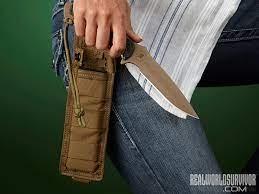knife: (76, 19, 200, 121)
